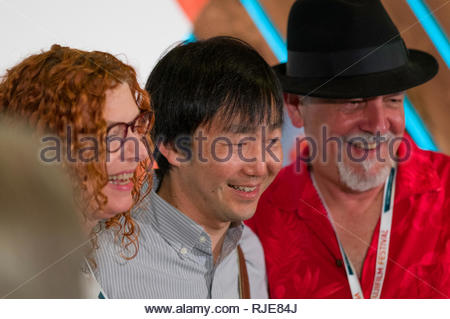person: (132, 51, 286, 274)
